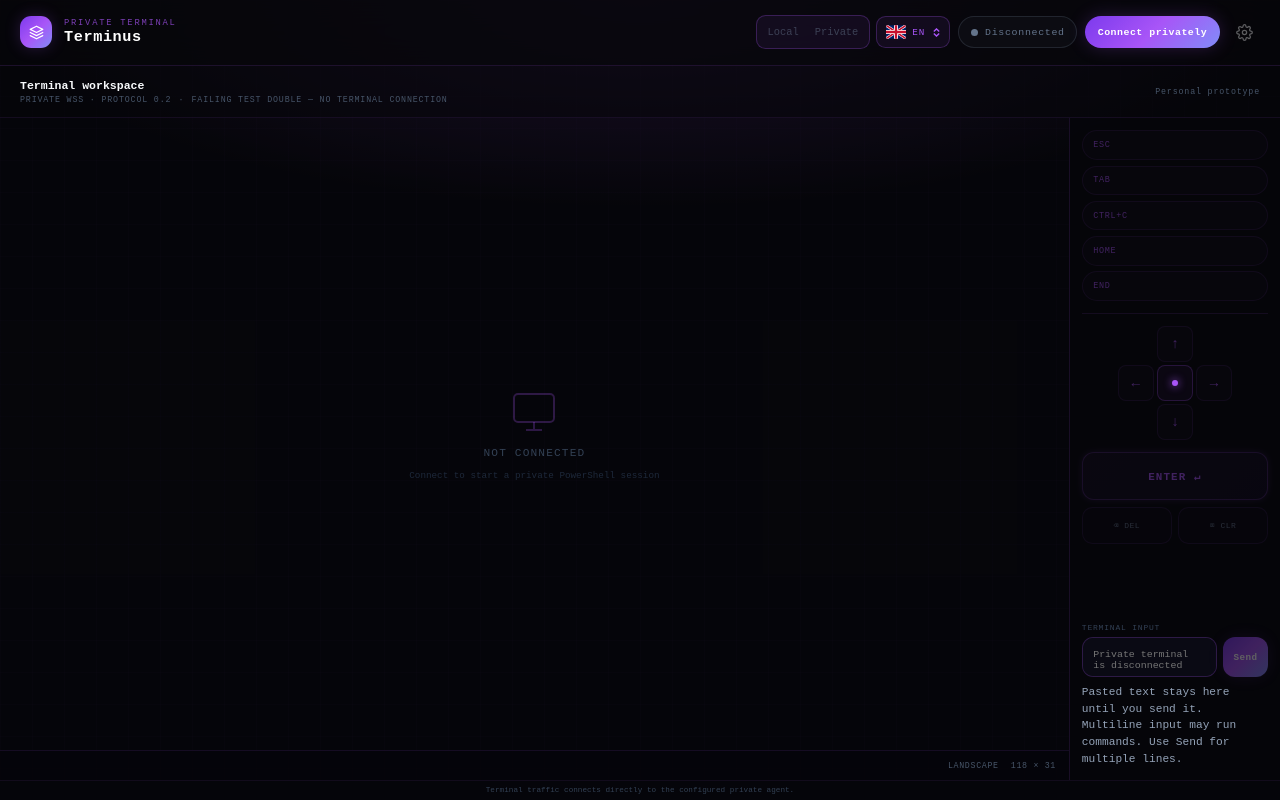
TerminalShell › gives bilingual system guidance when PowerShell cannot open
Click the button "Connect privately". click: point(1152, 32)
box: [1085,16,1220,48]
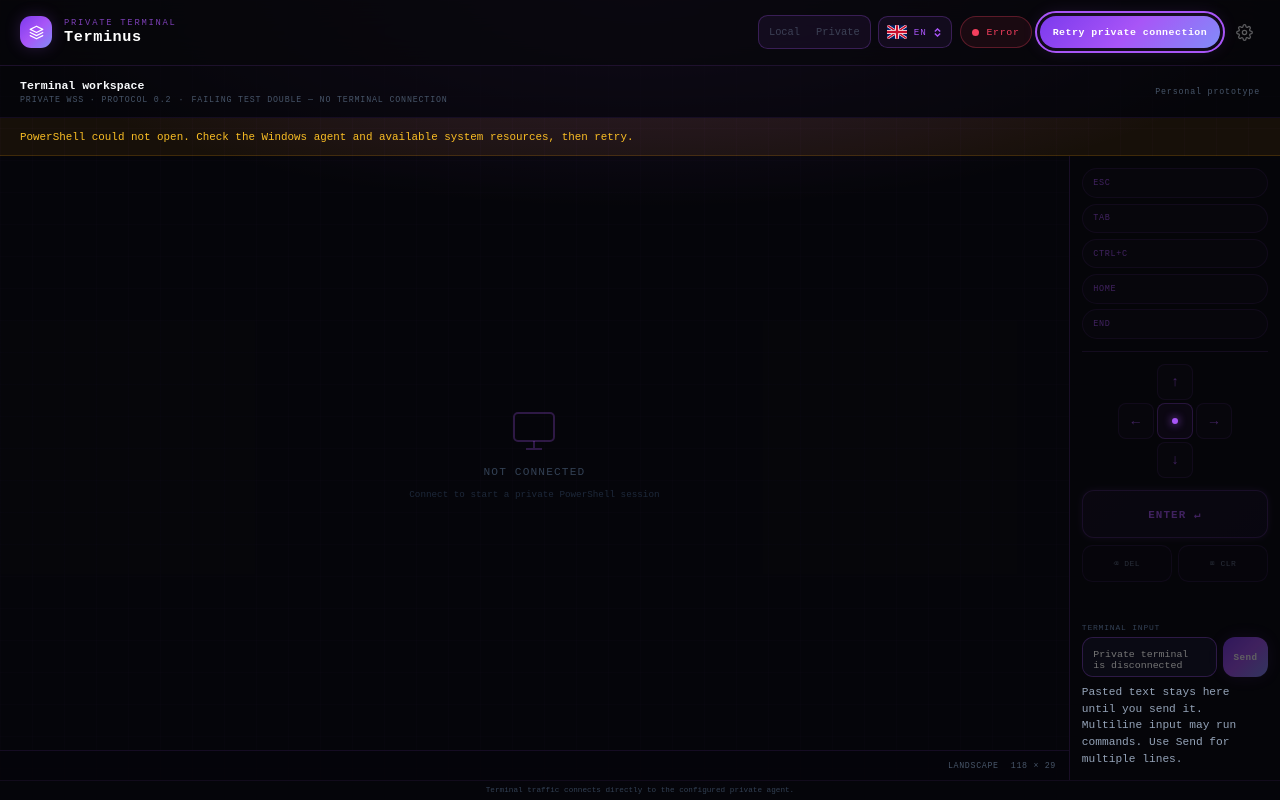
Expected: the button "Retry private connection" is enabled, [1040,16,1220,48]
Now the 2nd message shows "PowerShell could not open. Check the Windows agent and available system resources, then retry.", box [20,131,634,143]
Click the button with aria-label "Switch to Swedish". click: point(915, 32)
box: [878,16,952,48]
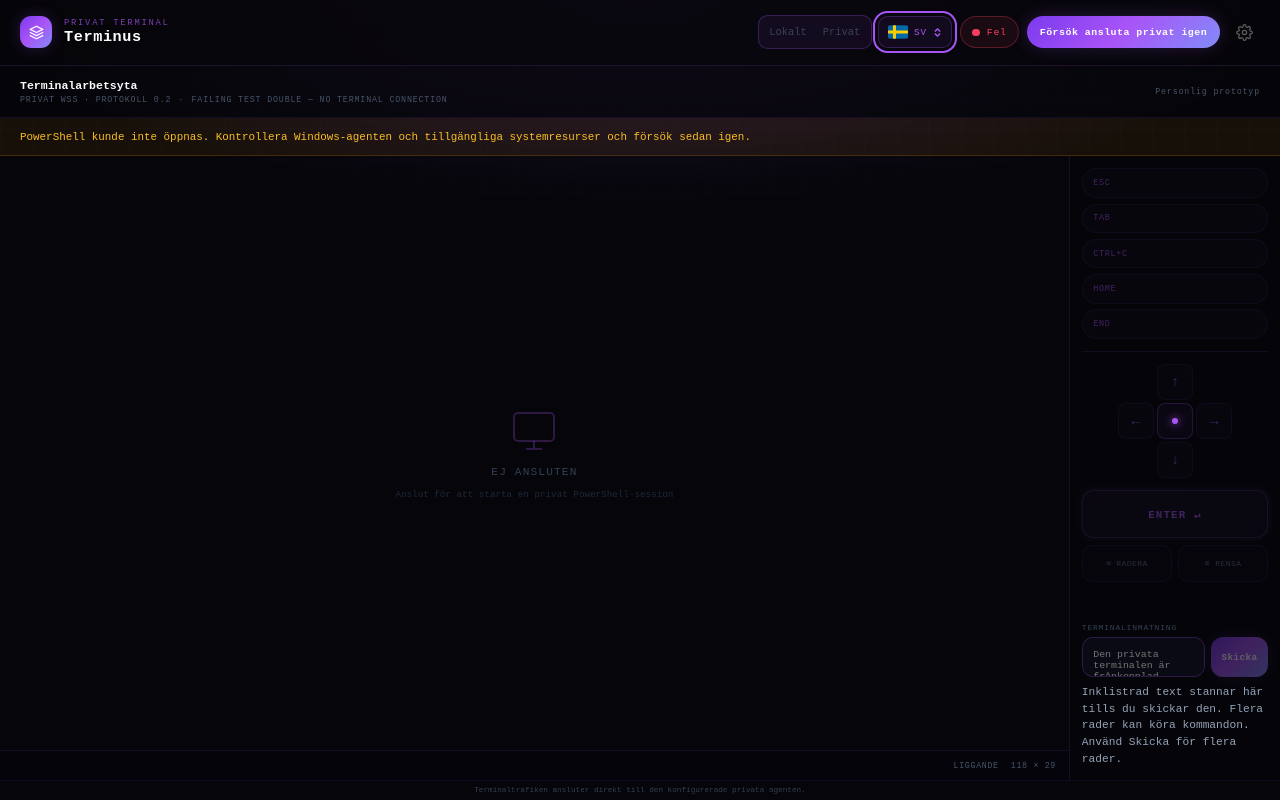
Expected: the button "Försök ansluta privat igen" is enabled, [1027,16,1220,48]
Now the 2nd message shows "PowerShell kunde inte öppnas. Kontrollera Windows-agenten och tillgängliga systemresurser och försök sedan igen.", box [20,131,751,143]
